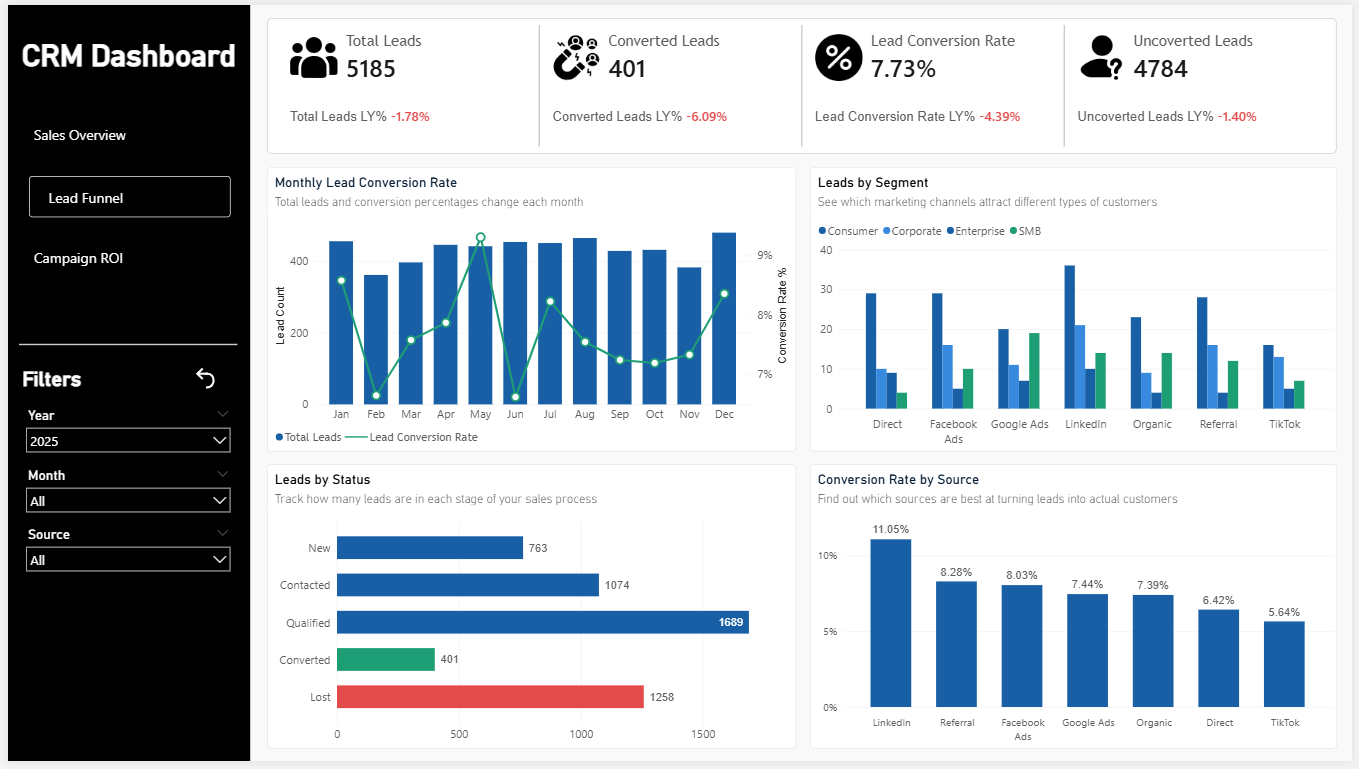

The dashboard page shown, as its layout file describes it:
{"tool":"powerbi","page":{"name":"Lead Funnel","canvas":[1920,1080],"ordinal":1},"visuals":[{"type":"shape","box":[0,0,345.7,1080],"z":0},{"type":"lineStackedColumnComboChart","title":"Monthly Lead Conversion Rate","fields":{"Category":["DateTable.MonthName"],"Y":["_measures.Total Leads"],"Y2":["_measures.Lead Conversion Rate"]},"box":[370,231.4,755.7,407.1],"z":1000},{"type":"cardVisual","title":"s","fields":{"Data":["_measures.Total Leads","_measures.Converted Leads","_measures.Lead Conversion Rate","_measures.Uncoverted Leads"]},"box":[369.8,18.6,1528.2,194.2],"z":2000},{"type":"barChart","title":"Leads by Status","fields":{"Category":["ecom_leads.status"],"Y":["_measures.Total Leads"]},"box":[370,655.7,755.7,407.1],"z":3000},{"type":"columnChart","title":"Conversion Rate by Source","fields":{"Category":["ecom_leads.source"],"Y":["_measures.Conversion Rate"]},"box":[1145.7,655.7,752.9,407.1],"z":4000},{"type":"clusteredColumnChart","title":"Leads by Segment","fields":{"Category":["ecom_leads.source"],"Y":["_measures.Total Leads"],"Series":["ecom_customers.segment"]},"box":[1145.7,231.4,752.9,407.1],"z":5000},{"type":"slicer","fields":{"Values":["ecom_leads.source"]},"box":[16,739.7,312.2,86.1],"z":6000},{"type":"slicer","fields":{"Values":["DateTable.Year"]},"box":[16,570.5,312.2,84.6],"z":7000},{"type":"slicer","fields":{"Values":["DateTable.MonthName"]},"box":[16,655.1,312.2,84.6],"z":8000},{"type":"shape","box":[15.4,449.2,312.1,72.8],"z":9000},{"type":"textbox","box":[15.4,512.2,312.1,43.4],"z":10000},{"type":"actionButton","box":[29.4,154.4,288.3,58.8],"z":11000},{"type":"actionButton","box":[29.4,243.9,288.3,58.8],"z":12000},{"type":"actionButton","box":[29.4,329.3,288.3,58.8],"z":13000},{"type":"textbox","box":[0,42,345.7,64.4],"z":14000},{"type":"actionButton","box":[247.4,513.4,70.5,39.9],"z":15001}]}

Visuals, with their boxes on the page's 1920x1080 design canvas (x1, y1, x2, y2). These are canvas units, not pixel positions in the 1359x769 screenshot, which may show the page scaled, cropped or inside an application window:
shape: {"left": 0, "top": 0, "right": 346, "bottom": 1080}
"Monthly Lead Conversion Rate" lineStackedColumnComboChart: {"left": 370, "top": 231, "right": 1126, "bottom": 638}
"s" cardVisual: {"left": 370, "top": 19, "right": 1898, "bottom": 213}
"Leads by Status" barChart: {"left": 370, "top": 656, "right": 1126, "bottom": 1063}
"Conversion Rate by Source" columnChart: {"left": 1146, "top": 656, "right": 1899, "bottom": 1063}
"Leads by Segment" clusteredColumnChart: {"left": 1146, "top": 231, "right": 1899, "bottom": 638}
slicer - ecom_leads.source: {"left": 16, "top": 740, "right": 328, "bottom": 826}
slicer - DateTable.Year: {"left": 16, "top": 570, "right": 328, "bottom": 655}
slicer - DateTable.MonthName: {"left": 16, "top": 655, "right": 328, "bottom": 740}
shape: {"left": 15, "top": 449, "right": 328, "bottom": 522}
textbox: {"left": 15, "top": 512, "right": 328, "bottom": 556}
actionButton: {"left": 29, "top": 154, "right": 318, "bottom": 213}
actionButton: {"left": 29, "top": 244, "right": 318, "bottom": 303}
actionButton: {"left": 29, "top": 329, "right": 318, "bottom": 388}
textbox: {"left": 0, "top": 42, "right": 346, "bottom": 106}
actionButton: {"left": 247, "top": 513, "right": 318, "bottom": 553}
